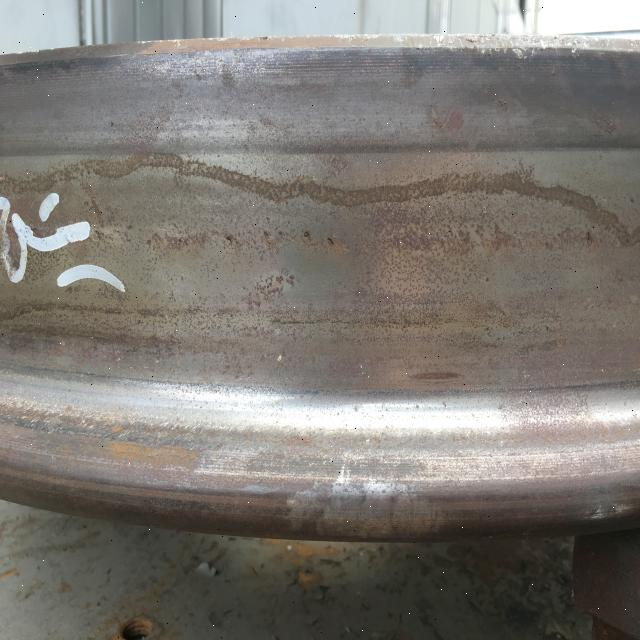boli: (326, 227, 338, 251), (301, 227, 313, 245)
